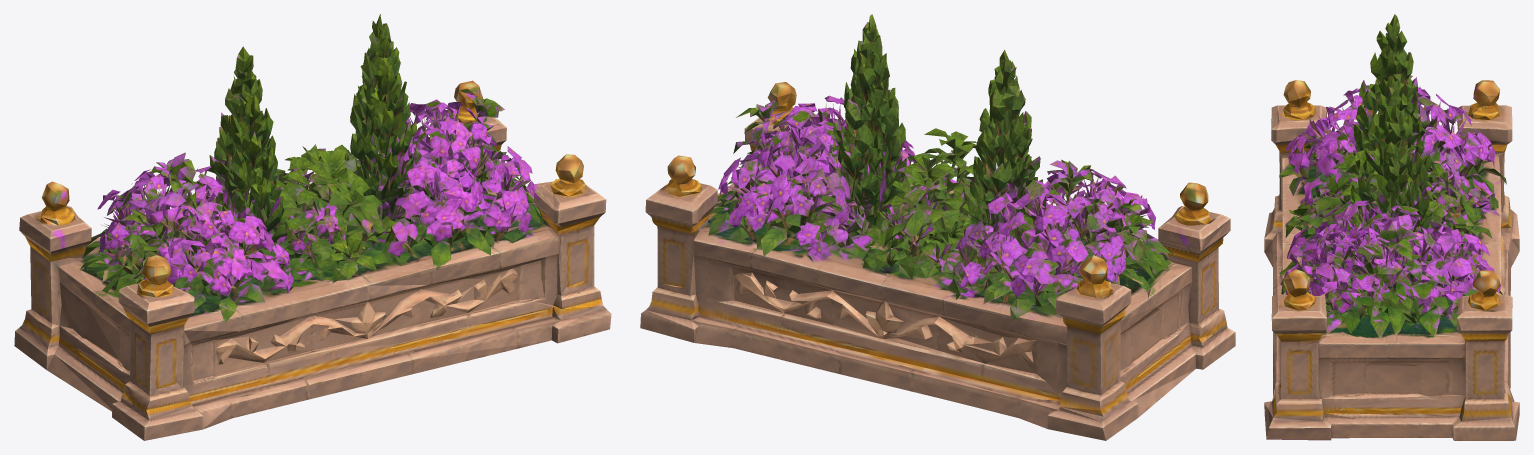
Rendered from iso-planter.glb.
The picture shows the model from 3 angles, left to right: view 1: azimuth 30°, elevation 25°; view 2: azimuth 150°, elevation 25°; view 3: azimuth 270°, elevation 25°; orthographic projection. The views are drawn at different scales.
Parts seen in each view (by area): view 1: Mesh_0; view 2: Mesh_0; view 3: Mesh_0.
Part boxes in pixels (x1,y1,x2,y2): Mesh_0: (14,14,611,440); Mesh_0: (640,14,1235,440); Mesh_0: (1264,14,1519,440).
Bounding box in the file's own units: 1.9 × 1.2 × 0.9551.
Materials: 1 (1 with a texture image).
